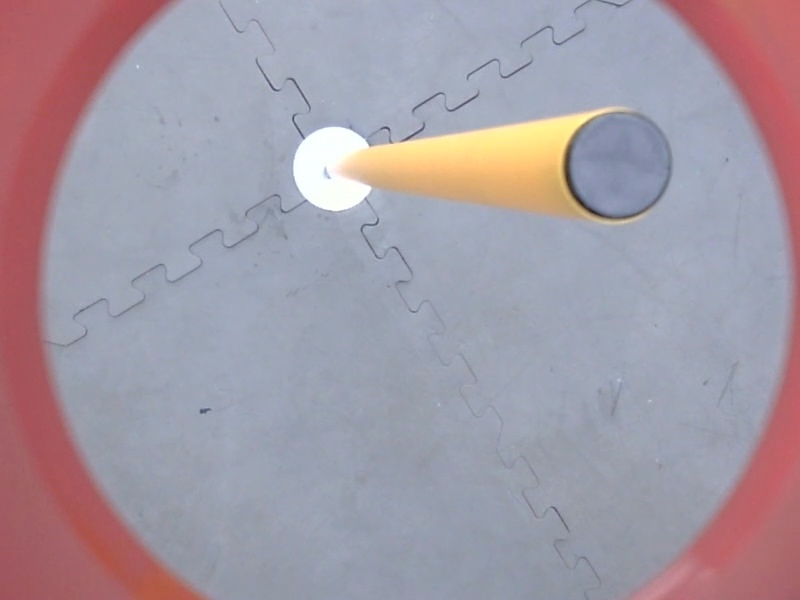tip: (554, 102, 682, 230)
